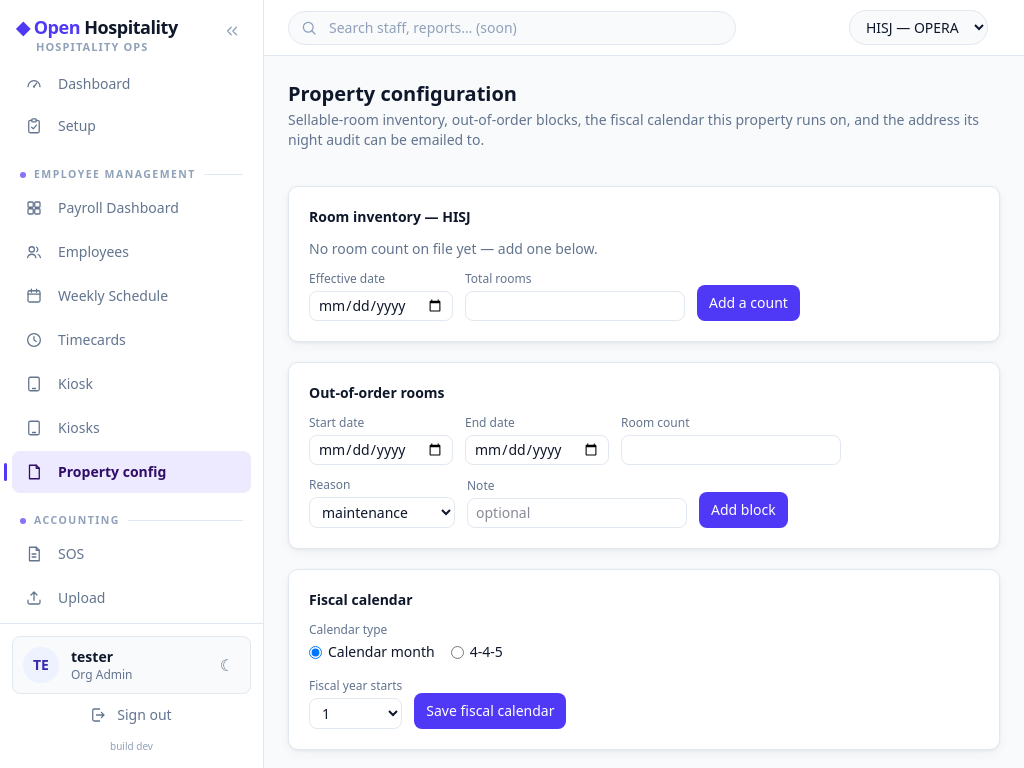
Test case: PropertyConfigPage › shows the week-start field only when 4-4-5 is chosen
Expected: the field labelled "week start" is not shown
Click the radio button labelled "4-4-5" at [457, 652], box [451, 646, 464, 658]
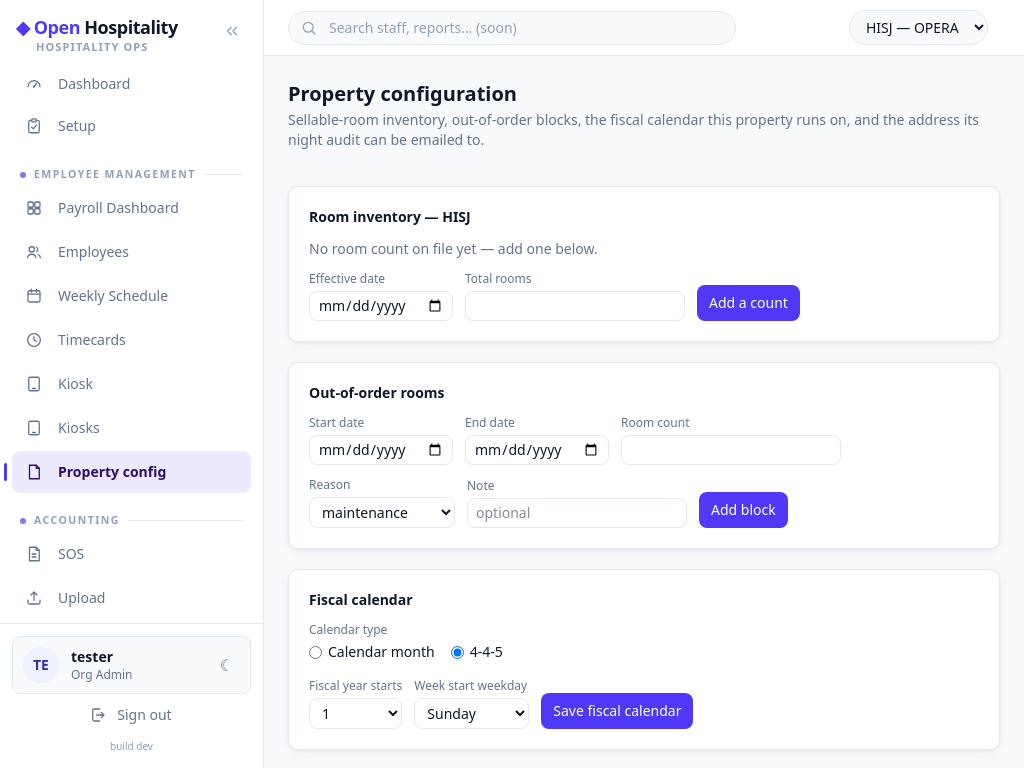
Expected: the dropdown labelled "Week start weekday" is shown, [414, 698, 529, 729]
